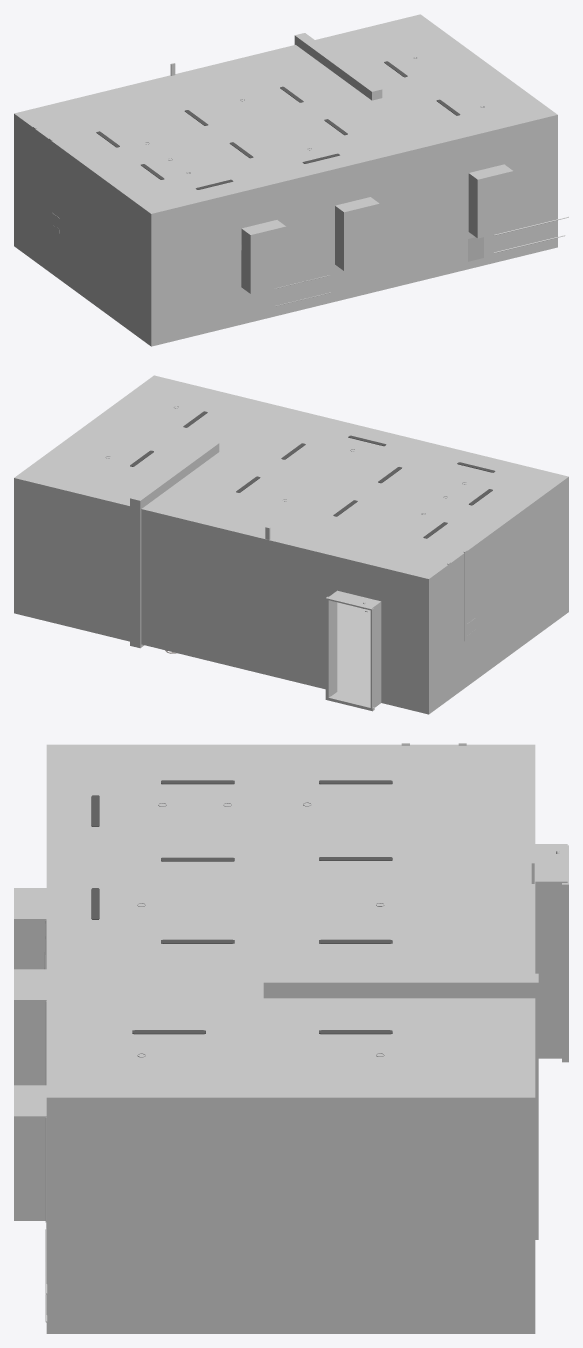
Rendered from diesel_wall.FBX.
The picture shows the model from 3 angles, top to bottom: view 1: azimuth 30°, elevation 25°; view 2: azimuth 150°, elevation 25°; view 3: azimuth 270°, elevation 25°; orthographic projection. The views are drawn at different scales.
Parts seen in each view (by area): view 1: diesel, Box625; view 2: diesel, Box625, Box629; view 3: diesel, Box625, Box629.
Part boxes in pixels (x1,y1,x2,y2): diesel: (14, 14, 568, 346); Box625: (294, 33, 382, 100); diesel: (14, 375, 568, 714); Box625: (130, 440, 219, 648); Box629: (325, 596, 374, 711); diesel: (14, 744, 567, 1333); Box625: (263, 973, 538, 1239); Box629: (562, 845, 568, 1062).
Size of the model in its own units: 0.0105 by 0.0036 by 0.00682.
